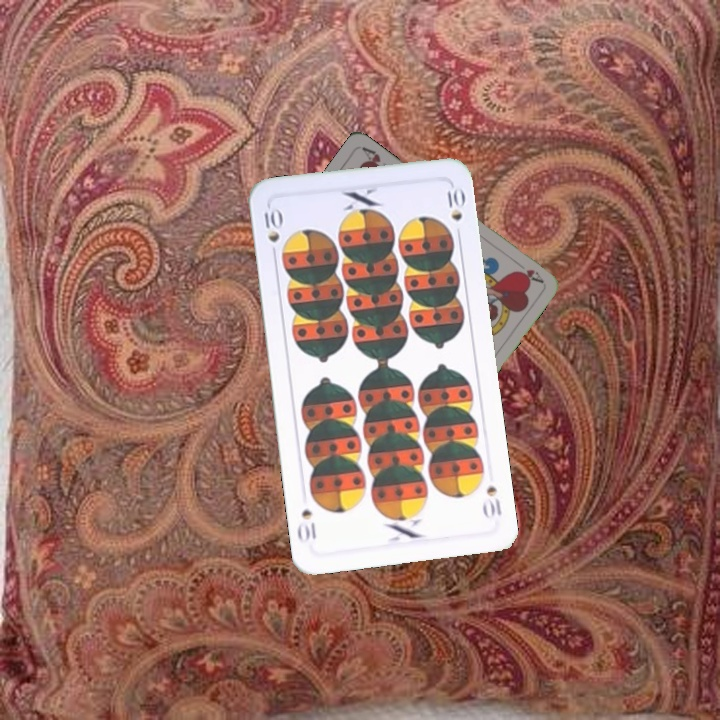HA: (510, 256, 545, 285)
S10: (479, 481, 504, 522), (260, 203, 283, 245)
